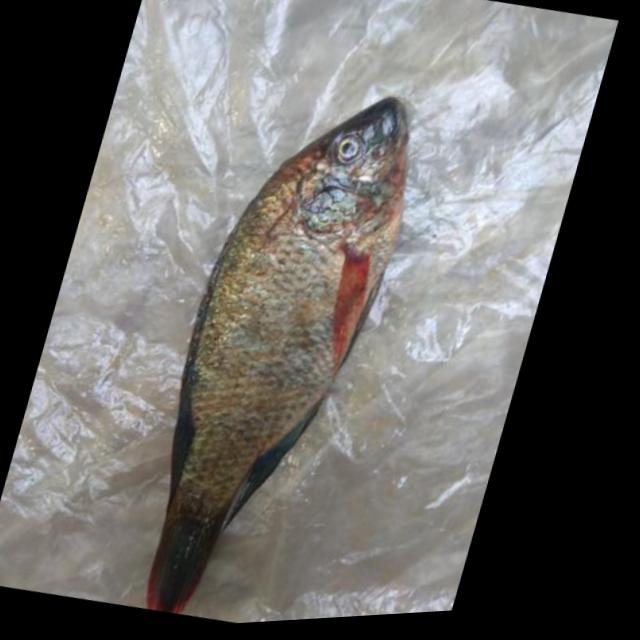Tilapia: (116, 65, 438, 630)
